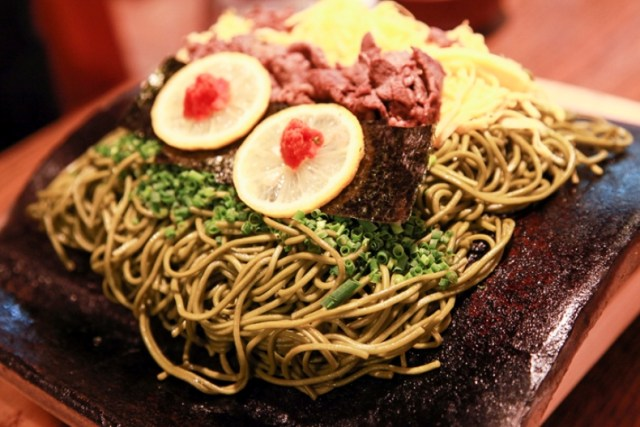Soba: (53, 129, 579, 396)
